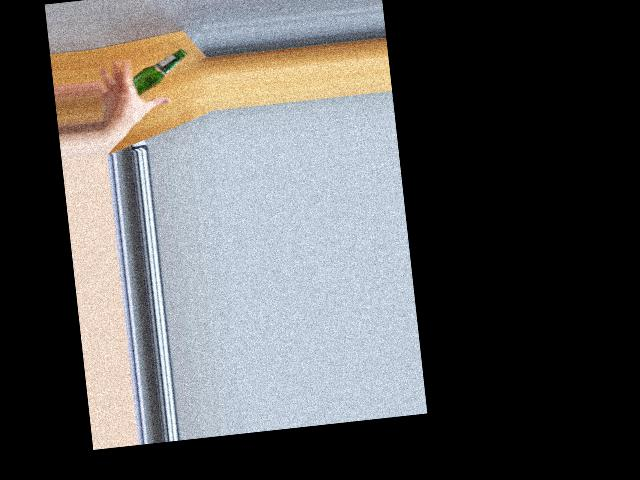beer: (130, 48, 191, 96)
